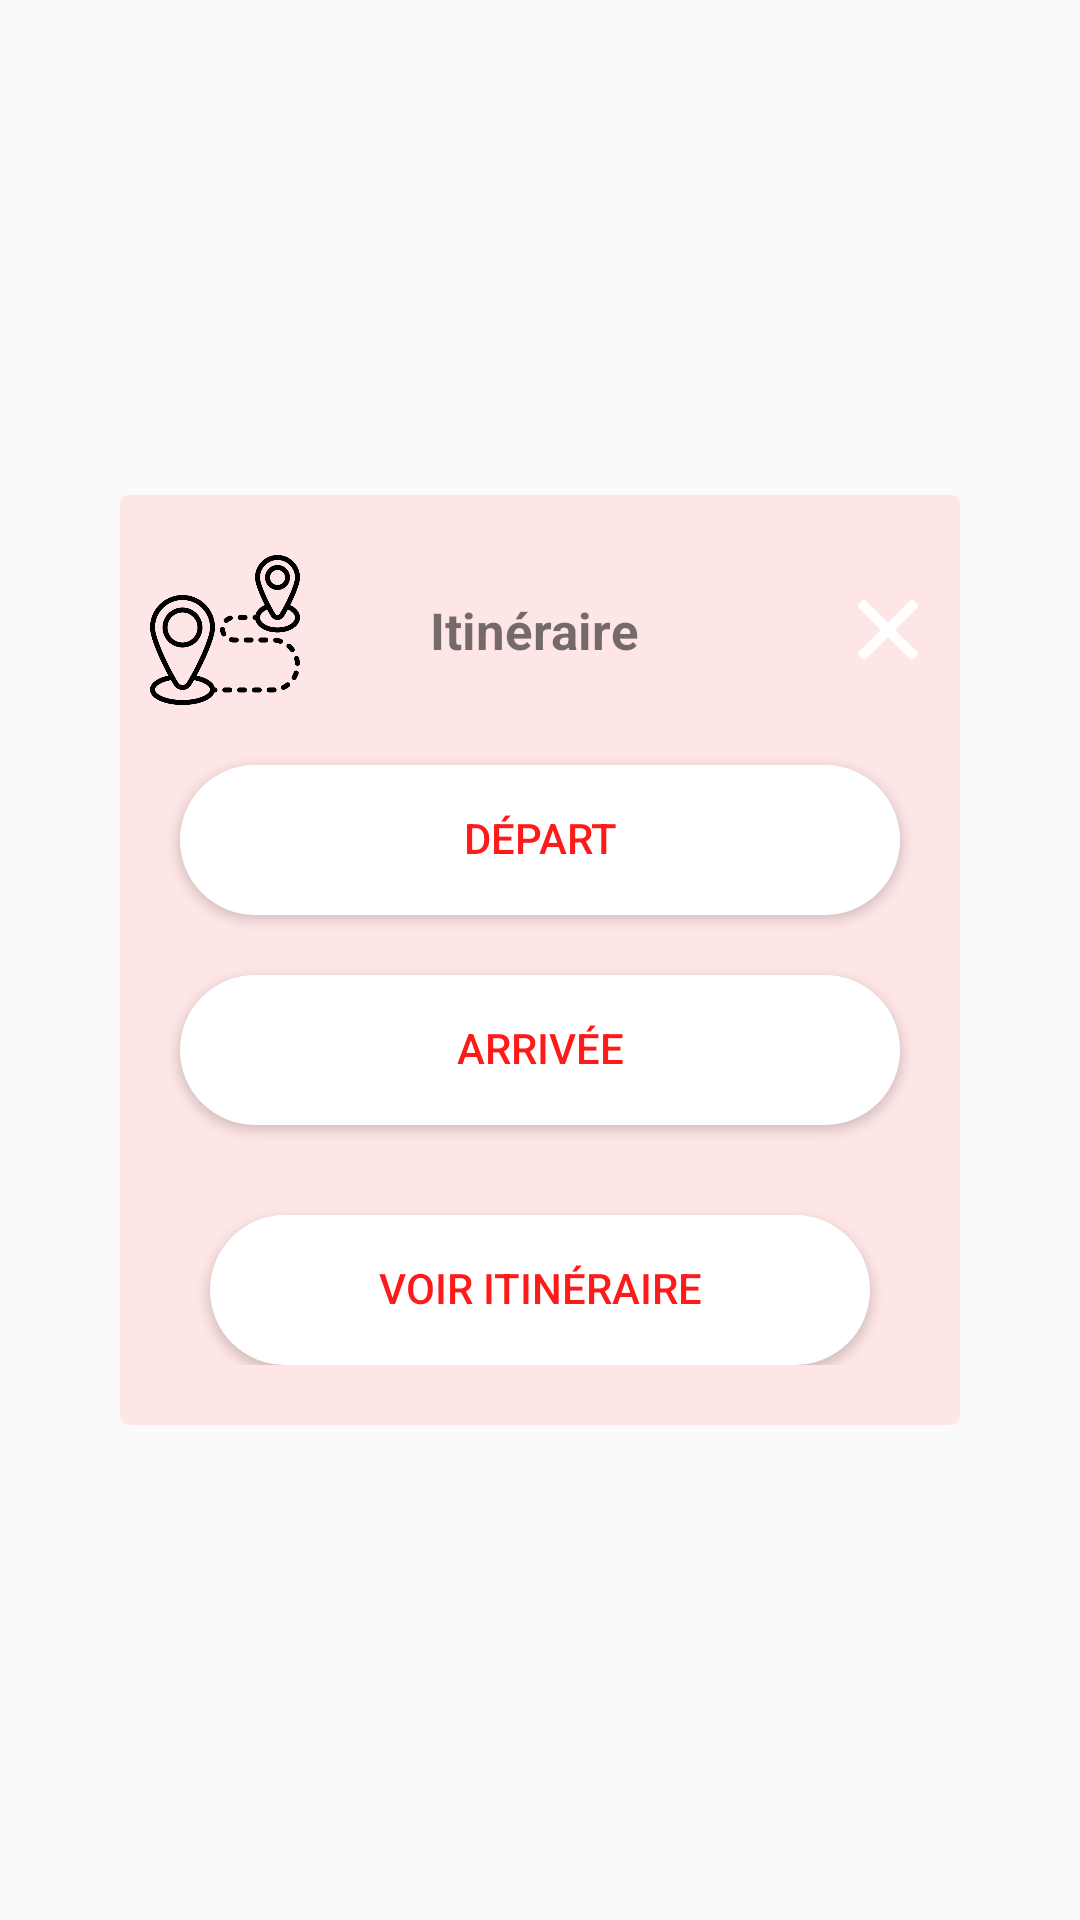

Screen size 1080w x 1920h. Icon name, then its center in pixels as point (x, y):
clear: point (888, 630)
itinerary: point (225, 630)
